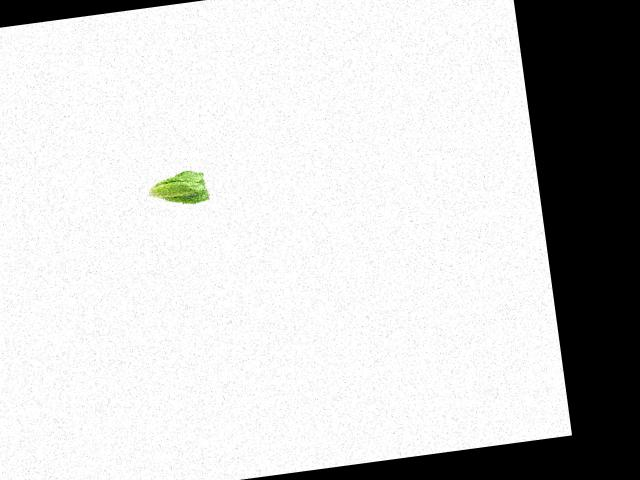lettuce: (143, 162, 213, 214)
